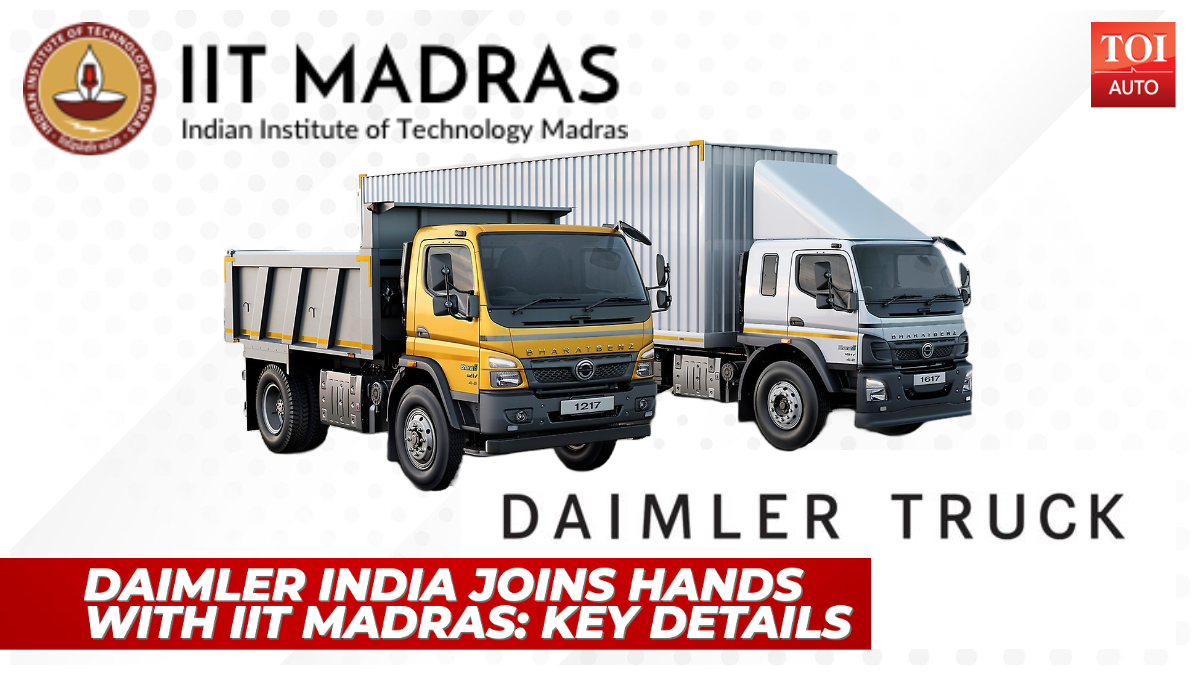truck: (359, 139, 972, 451), (223, 201, 673, 490)
